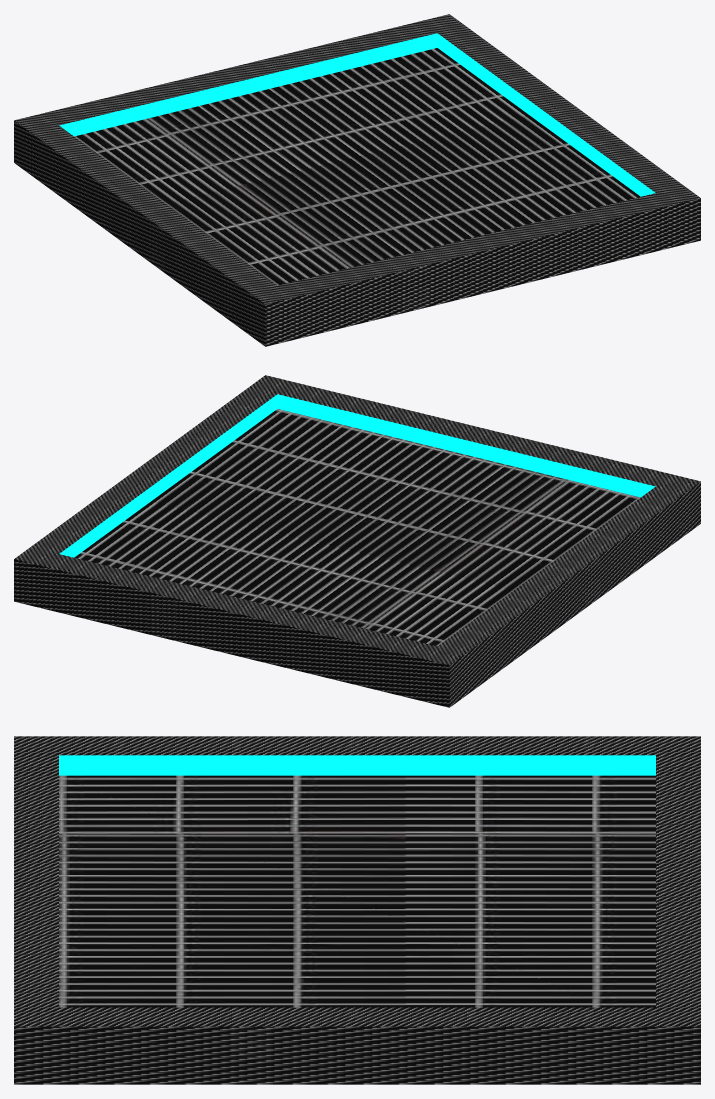
Rendered from plaftorm.glb.
3 views of the same model, one above another, from view 1: azimuth 30°, elevation 25°; view 2: azimuth 150°, elevation 25°; view 3: azimuth 270°, elevation 25° (orthographic). The views are drawn at different scales.
Visible parts, largest first — view 1: platform_col; view 2: platform_col; view 3: platform_col.
Part boxes in pixels (bbox=[...]): platform_col: bbox=[14, 14, 700, 346]; platform_col: bbox=[14, 375, 700, 707]; platform_col: bbox=[14, 736, 700, 1084].
Size of the model in its own units: 6 by 0.881 by 6.
3 materials, 2 textured.
